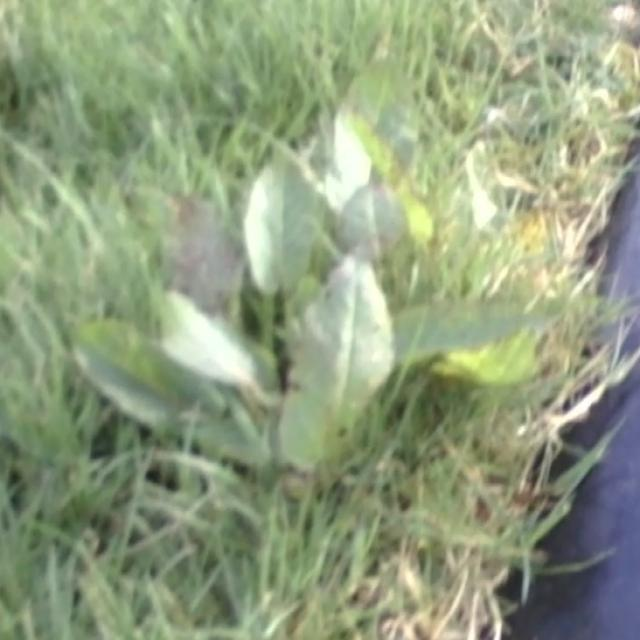organic waste: (70, 104, 520, 506), (299, 25, 515, 299)
